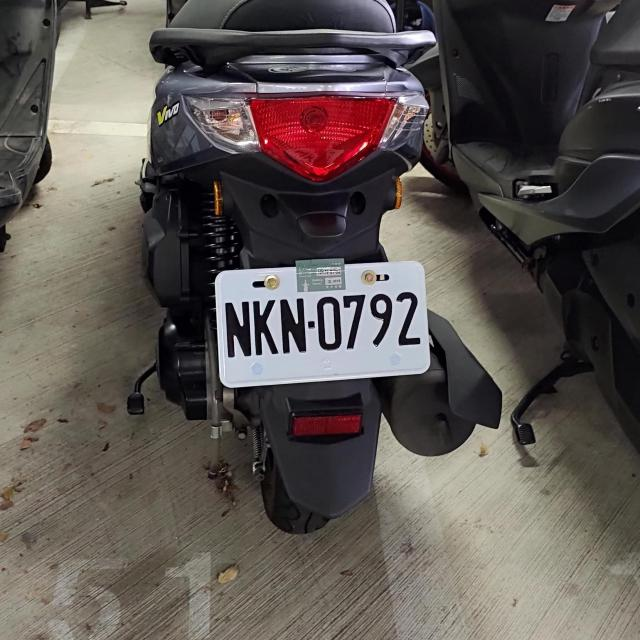W: (215, 260, 428, 384)
